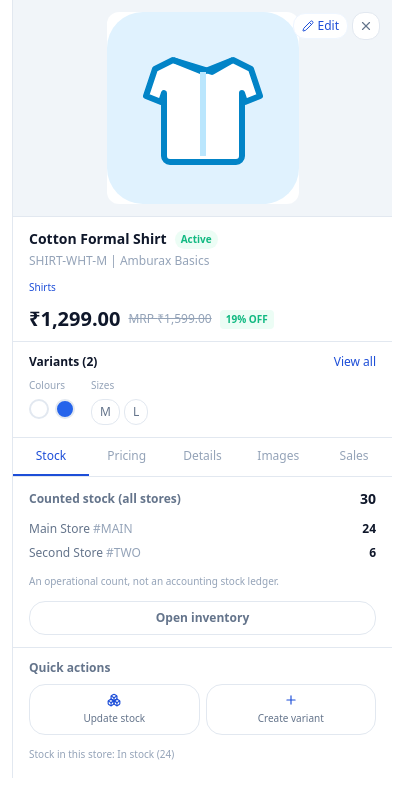
the pricing tab lists every variant and refuses to state a margin
The image size is (409, 808).
Click the tab "Pricing" at (127, 457), box [89,438,165,476]
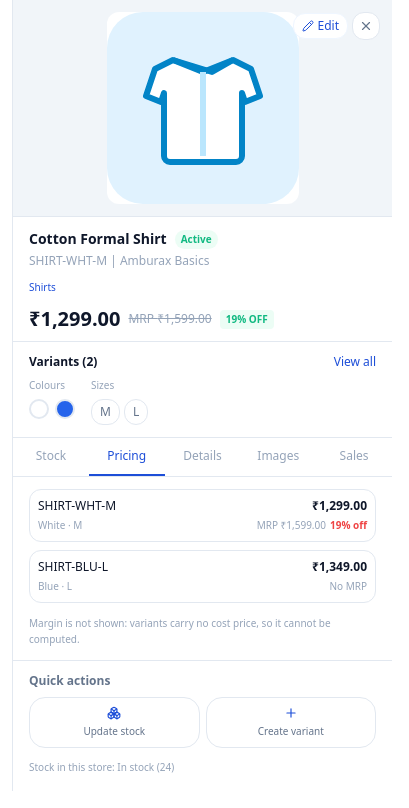
Expected: the text "SHIRT-BLU-L" is shown, [38,559,108,575]
Expected: the text "Margin is not shown" is shown, [29,616,331,646]
